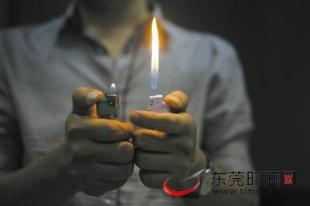Fire: (147, 17, 161, 92), (109, 81, 117, 92)
